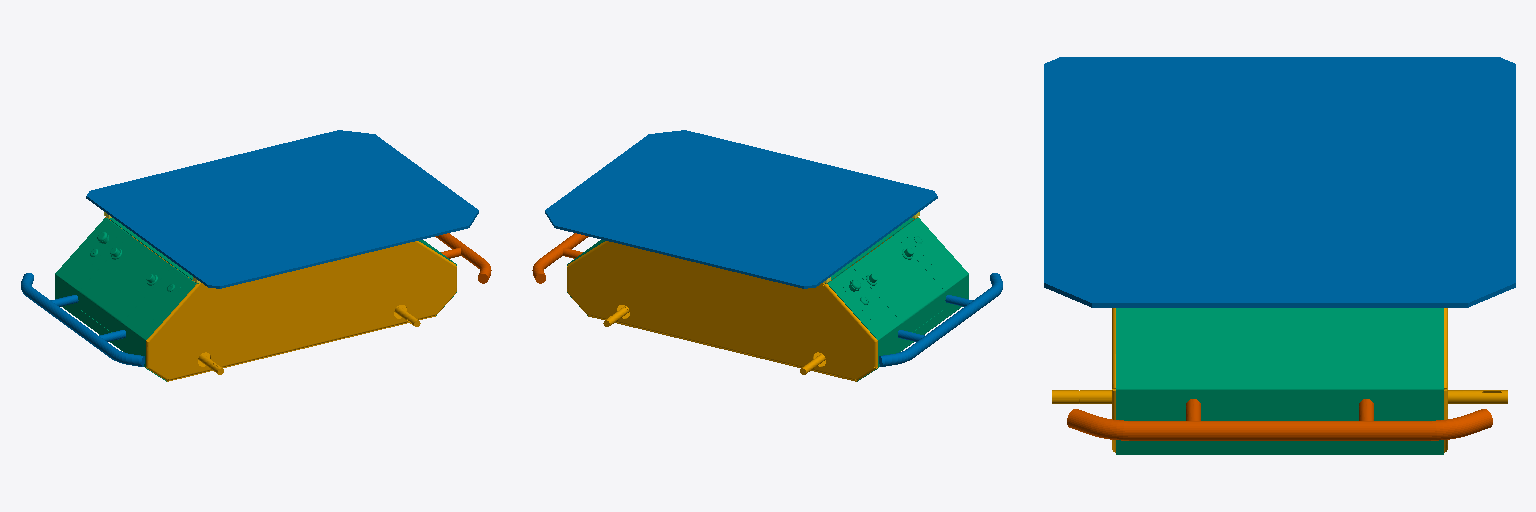
robot.urdf — husky:
<?xml version="1.0" encoding="utf-8"?>
<!-- =================================================================================== -->
<!-- |    This document was autogenerated by xacro from husky_for_copying.urdf.xacro   | -->
<!-- |    EDITING THIS FILE BY HAND IS NOT RECOMMENDED                                 | -->
<!-- =================================================================================== -->
<!--
Software License Agreement (BSD)
\file      husky.urdf.xacro
\authors   [author] <[email redacted]>, [author] <[email redacted]>
\copyright Copyright (c) 2015, Clearpath Robotics, Inc., All rights reserved.
Redistribution and use in source and binary forms, with or without modification, are permitted provided that
the following conditions are met:
 * Redistributions of source code must retain the above copyright notice, this list of conditions and the
   following disclaimer.
 * Redistributions in binary form must reproduce the above copyright notice, this list of conditions and the
   following disclaimer in the documentation and/or other materials provided with the distribution.
 * Neither the name of Clearpath Robotics nor the names of its contributors may be used to endorse or promote
   products derived from this software without specific prior written permission.
THIS SOFTWARE IS PROVIDED BY THE COPYRIGHT [author] "AS IS" AND ANY EXPRESS OR IMPLIED WAR-
RANTIES, INCLUDING, BUT NOT LIMITED TO, THE IMPLIED WARRANTIES OF MERCHANTABILITY AND FITNESS FOR A PARTICULAR
PURPOSE ARE DISCLAIMED. IN NO EVENT SHALL THE COPYRIGHT [author] LIABLE FOR ANY DIRECT, IN-
DIRECT, INCIDENTAL, SPECIAL, EXEMPLARY, OR CONSEQUENTIAL DAMAGES (INCLUDING, BUT NOT LIMITED TO, PROCUREMENT
OF SUBSTITUTE GOODS OR SERVICES; LOSS OF USE, DATA, OR PROFITS; OR BUSINESS INTERRUPTION) HOWEVER CAUSED AND
ON ANY THEORY OF LIABILITY, WHETHER IN CONTRACT, STRICT LIABILITY, OR TORT (INCLUDING NEGLIGENCE OR OTHERWISE)
ARISING IN ANY WAY OUT OF THE USE OF THIS SOFTWARE, EVEN IF ADVISED OF THE POSSIBILITY OF SUCH DAMAGE.
-->
<robot name="husky">
  <material name="dark_grey">
    <color rgba="0.2 0.2 0.2 1.0"/>
  </material>
  <material name="medium_grey">
    <color rgba="0.6 0.6 0.6 1.0"/>
  </material>
  <material name="light_grey">
    <color rgba="0.8 0.8 0.8 1.0"/>
  </material>
  <material name="yellow">
    <color rgba="0.8 0.8 0.0 1.0"/>
  </material>
  <material name="black">
    <color rgba="0.15 0.15 0.15 1.0"/>
  </material>
  <material name="white">
    <color rgba="1.0 1.0 1.0 1.0"/>
  </material>
  <material name="red">
    <color rgba="1.0 0.0 0.0 1.0"/>
  </material>
  <!-- Base link is the center of the robot's bottom plate -->
  <link name="base_link">
    <visual>
      <origin rpy="0 0 0" xyz="0 0 0"/>
      <geometry>
        <mesh filename="package://husky_description/meshes/base_link_dae.obj"/>
      </geometry>
    </visual>
    <collision>
      <origin rpy="0 0 0" xyz="0.0 0 0.061875"/>
      <geometry>
        <box size="0.9874 0.5709 0.12375"/>
      </geometry>
    </collision>
    <collision>
      <origin rpy="0 0 0" xyz="0 0 0.175625"/>
      <geometry>
        <box size="0.78992 0.5709 0.10375"/>
      </geometry>
    </collision>
  </link>
  <!-- Base footprint is on the ground under the robot -->
  <link name="base_footprint"/>
  <joint name="base_footprint_joint" type="fixed">
    <origin rpy="0 0 0" xyz="0 0 -0.13228"/>
    <parent link="base_link"/>
    <child link="base_footprint"/>
  </joint>
  <!-- Inertial link stores the robot's inertial information -->
  <link name="inertial_link">
    <inertial>
      <mass value="46.034"/>
      <origin xyz="-0.00065 -0.085 0.062"/>
      <inertia ixx="0.6022" ixy="-0.02364" ixz="-0.1197" iyy="1.7386" iyz="-0.001544" izz="2.0296"/>
    </inertial>
  </link>
  <joint name="inertial_joint" type="fixed">
    <origin rpy="0 0 0" xyz="0 0 0"/>
    <parent link="base_link"/>
    <child link="inertial_link"/>
  </joint>
  <!-- IMU Link is the standard mounting position for the UM6 IMU.-->
  <!-- Can be modified with environment variables in /etc/ros/setup.bash -->
  <link name="imu_link"/>
  <joint name="imu_joint" type="fixed">
    <origin rpy="0 -1.5708 3.1416" xyz="0.19 0 0.149"/>
    <parent link="base_link"/>
    <child link="imu_link"/>
  </joint>
  <gazebo reference="imu_link">
  </gazebo>
  <link name="rear_bumper_link">
    <visual>
      <geometry>
        <mesh filename="package://husky_description/meshes/bumper_dae.obj"/>
      </geometry>
    </visual>
  </link>
  <!-- Attach rear bumper -->
  <joint name="rear_bumper" type="fixed">
    <origin rpy="0 0 3.14159" xyz="-0.48 0 0.091"/>
    <parent link="base_link"/>
    <child link="rear_bumper_link"/>
  </joint>
  <link name="front_bumper_link">
    <visual>
      <geometry>
        <mesh filename="package://husky_description/meshes/bumper_dae.obj"/>
      </geometry>
    </visual>
  </link>
  <!-- Attach front bumper -->
  <joint name="front_bumper" type="fixed">
    <origin rpy="0 0 0" xyz="0.48 0 0.091"/>
    <parent link="base_link"/>
    <child link="front_bumper_link"/>
  </joint>
  <link name="front_left_wheel_link">
    <inertial>
      <mass value="2.637"/>
      <origin xyz="0 0 0"/>
      <inertia ixx="0.02467" ixy="0" ixz="0" iyy="0.04411" iyz="0" izz="0.02467"/>
    </inertial>
    <visual>
      <origin rpy="0 0 0" xyz="0 0 0"/>
      <geometry>
        <mesh filename="package://husky_description/meshes/wheel_dae.obj"/>
      </geometry>
    </visual>
    <collision>
      <origin rpy="1.570795 0 0" xyz="0 0 0"/>
      <geometry>
        <cylinder length="0.1143" radius="0.1651"/>
      </geometry>
    </collision>
  </link>
  <gazebo reference="front_left_wheel_link">
    <mu1 value="1.0"/>
    <mu2 value="0.5"/>
    <kp value="10000000.0"/>
    <kd value="1.0"/>
    <fdir1 value="1 0 0"/>
  </gazebo>
  <joint name="front_left_wheel" type="continuous">
    <parent link="base_link"/>
    <child link="front_left_wheel_link"/>
    <origin rpy="0 0 0" xyz="0.256 0.2854 0.03282"/>
    <axis rpy="0 0 0" xyz="0 1 0"/>
  </joint>
  <transmission name="front_left_wheel_trans" type="SimpleTransmission">
    <type>transmission_interface/SimpleTransmission</type>
    <actuator name="front_left_wheel_motor">
      <mechanicalReduction>1</mechanicalReduction>
    </actuator>
    <joint name="front_left_wheel">
      <hardwareInterface>hardware_interface/VelocityJointInterface</hardwareInterface>
    </joint>
  </transmission>
  <link name="front_right_wheel_link">
    <inertial>
      <mass value="2.637"/>
      <origin xyz="0 0 0"/>
      <inertia ixx="0.02467" ixy="0" ixz="0" iyy="0.04411" iyz="0" izz="0.02467"/>
    </inertial>
    <visual>
      <origin rpy="0 0 0" xyz="0 0 0"/>
      <geometry>
        <mesh filename="package://husky_description/meshes/wheel_dae.obj"/>
      </geometry>
    </visual>
    <collision>
      <origin rpy="1.570795 0 0" xyz="0 0 0"/>
      <geometry>
        <cylinder length="0.1143" radius="0.1651"/>
      </geometry>
    </collision>
  </link>
  <gazebo reference="front_right_wheel_link">
    <mu1 value="1.0"/>
    <mu2 value="0.5"/>
    <kp value="10000000.0"/>
    <kd value="1.0"/>
    <fdir1 value="1 0 0"/>
  </gazebo>
  <joint name="front_right_wheel" type="continuous">
    <parent link="base_link"/>
    <child link="front_right_wheel_link"/>
    <origin rpy="0 0 0" xyz="0.256 -0.2854 0.03282"/>
    <axis rpy="0 0 0" xyz="0 1 0"/>
  </joint>
  <transmission name="front_right_wheel_trans" type="SimpleTransmission">
    <type>transmission_interface/SimpleTransmission</type>
    <actuator name="front_right_wheel_motor">
      <mechanicalReduction>1</mechanicalReduction>
    </actuator>
    <joint name="front_right_wheel">
      <hardwareInterface>hardware_interface/VelocityJointInterface</hardwareInterface>
    </joint>
  </transmission>
  <link name="rear_left_wheel_link">
    <inertial>
      <mass value="2.637"/>
      <origin xyz="0 0 0"/>
      <inertia ixx="0.02467" ixy="0" ixz="0" iyy="0.04411" iyz="0" izz="0.02467"/>
    </inertial>
    <visual>
      <origin rpy="0 0 0" xyz="0 0 0"/>
      <geometry>
        <mesh filename="package://husky_description/meshes/wheel_dae.obj"/>
      </geometry>
    </visual>
    <collision>
      <origin rpy="1.570795 0 0" xyz="0 0 0"/>
      <geometry>
        <cylinder length="0.1143" radius="0.1651"/>
      </geometry>
    </collision>
  </link>
  <gazebo reference="rear_left_wheel_link">
    <mu1 value="1.0"/>
    <mu2 value="0.5"/>
    <kp value="10000000.0"/>
    <kd value="1.0"/>
    <fdir1 value="1 0 0"/>
  </gazebo>
  <joint name="rear_left_wheel" type="continuous">
    <parent link="base_link"/>
    <child link="rear_left_wheel_link"/>
    <origin rpy="0 0 0" xyz="-0.256 0.2854 0.03282"/>
    <axis rpy="0 0 0" xyz="0 1 0"/>
  </joint>
  <transmission name="rear_left_wheel_trans" type="SimpleTransmission">
    <type>transmission_interface/SimpleTransmission</type>
    <actuator name="rear_left_wheel_motor">
      <mechanicalReduction>1</mechanicalReduction>
    </actuator>
    <joint name="rear_left_wheel">
      <hardwareInterface>hardware_interface/VelocityJointInterface</hardwareInterface>
    </joint>
  </transmission>
  <link name="rear_right_wheel_link">
    <inertial>
      <mass value="2.637"/>
      <origin xyz="0 0 0"/>
      <inertia ixx="0.02467" ixy="0" ixz="0" iyy="0.04411" iyz="0" izz="0.02467"/>
    </inertial>
    <visual>
      <origin rpy="0 0 0" xyz="0 0 0"/>
      <geometry>
        <mesh filename="package://husky_description/meshes/wheel_dae.obj"/>
      </geometry>
    </visual>
    <collision>
      <origin rpy="1.570795 0 0" xyz="0 0 0"/>
      <geometry>
        <cylinder length="0.1143" radius="0.1651"/>
      </geometry>
    </collision>
  </link>
  <gazebo reference="rear_right_wheel_link">
    <mu1 value="1.0"/>
    <mu2 value="0.5"/>
    <kp value="10000000.0"/>
    <kd value="1.0"/>
    <fdir1 value="1 0 0"/>
  </gazebo>
  <joint name="rear_right_wheel" type="continuous">
    <parent link="base_link"/>
    <child link="rear_right_wheel_link"/>
    <origin rpy="0 0 0" xyz="-0.256 -0.2854 0.03282"/>
    <axis rpy="0 0 0" xyz="0 1 0"/>
  </joint>
  <transmission name="rear_right_wheel_trans" type="SimpleTransmission">
    <type>transmission_interface/SimpleTransmission</type>
    <actuator name="rear_right_wheel_motor">
      <mechanicalReduction>1</mechanicalReduction>
    </actuator>
    <joint name="rear_right_wheel">
      <hardwareInterface>hardware_interface/VelocityJointInterface</hardwareInterface>
    </joint>
  </transmission>
  <!-- Spawn Husky chassis -->
  <link name="top_chassis_link">
    <visual>
      <origin rpy="0 0 0" xyz="0 0 0"/>
      <geometry>
        <mesh filename="package://husky_description/meshes/top_chassis_dae.obj"/>
      </geometry>
    </visual>
  </link>
  <!-- Attach chassis to the robot -->
  <joint name="top_chassis_joint" type="fixed">
    <parent link="base_link"/>
    <child link="top_chassis_link"/>
  </joint>
  <!-- Spawn user rails -->
  <link name="user_rail_link">
    <visual>
      <geometry>
        <mesh filename="package://husky_description/meshes/user_rail_dae.obj"/>
      </geometry>
    </visual>
  </link>
  <!-- Attach user rails to base link -->
  <joint name="user_rail" type="fixed">
    <origin rpy="0 0 0" xyz="0.272 0 0.245"/>
    <parent link="base_link"/>
    <child link="user_rail_link"/>
  </joint>
  <link name="top_plate_link">
    <visual>
      <origin rpy="0 0 0" xyz="0 0 0"/>
      <geometry>
        <mesh filename="package://husky_description/meshes/top_plate_dae.obj"/>
      </geometry>
    </visual>
    <collision>
      <origin rpy="0 0 0" xyz="0 0 0"/>
      <geometry>
        <mesh filename="package://husky_description/meshes/top_plate_stl.obj"/>
      </geometry>
    </collision>
  </link>
  <!-- Attach top plate -->
  <joint name="top_plate_joint" type="fixed">
    <parent link="base_link"/>
    <child link="top_plate_link"/>
    <origin rpy="0 0 0" xyz="0.0812 0 0.245"/>
  </joint>
  <!-- Top plate front link -->
  <joint name="top_plate_front_joint" type="fixed">
    <parent link="top_plate_link"/>
    <child link="top_plate_front_link"/>
    <origin rpy="0 0 0" xyz="0.36367 0 0.00639"/>
  </joint>
  <!-- Top plate rear link-->
  <joint name="top_plate_rear_joint" type="fixed">
    <parent link="top_plate_link"/>
    <child link="top_plate_rear_link"/>
    <origin rpy="0 0 0" xyz="-0.36633 0 0.00639"/>
  </joint>
  <link name="top_plate_front_link"/>
  <link name="top_plate_rear_link"/>
  <gazebo>
    <plugin filename="libgazebo_ros_control.so" name="gazebo_ros_control">
      <robotNamespace>/</robotNamespace>
      <legacyModeNS>true</legacyModeNS>
    </plugin>
  </gazebo>
  <gazebo>
    <plugin filename="libhector_gazebo_ros_imu.so" name="imu_controller">
      <robotNamespace>/</robotNamespace>
      <updateRate>50.0</updateRate>
      <bodyName>base_link</bodyName>
      <topicName>imu/data</topicName>
      <accelDrift>0.005 0.005 0.005</accelDrift>
      <accelGaussianNoise>0.005 0.005 0.005</accelGaussianNoise>
      <rateDrift>0.005 0.005 0.005 </rateDrift>
      <rateGaussianNoise>0.005 0.005 0.005 </rateGaussianNoise>
      <headingDrift>0.005</headingDrift>
      <headingGaussianNoise>0.005</headingGaussianNoise>
    </plugin>
  </gazebo>
  <gazebo>
    <plugin filename="libhector_gazebo_ros_gps.so" name="gps_controller">
      <robotNamespace>/</robotNamespace>
      <updateRate>40</updateRate>
      <bodyName>base_link</bodyName>
      <frameId>base_link</frameId>
      <topicName>navsat/fix</topicName>
      <velocityTopicName>navsat/vel</velocityTopicName>
      <referenceLatitude>49.9</referenceLatitude>
      <referenceLongitude>8.9</referenceLongitude>
      <referenceHeading>0</referenceHeading>
      <referenceAltitude>0</referenceAltitude>
      <drift>0.0001 0.0001 0.0001</drift>
    </plugin>
  </gazebo>
  <!-- This file is a placeholder which is included by default from
       husky.urdf.xacro. If a robot is being customized and requires
       additional URDF, set the HUSKY_URDF_EXTRAS environment variable
       to the full path of the file you would like included. -->
  <!-- This file is a placeholder which is included by default from
       husky.urdf.xacro. If a robot is being customized and requires
       additional URDF, set the HUSKY_URDF_EXTRAS environment variable
       to the full path of the file you would like included. -->
</robot>

--- Render facts (derived) ---
3 views of the same robot in one strip: view 1: azimuth 30°, elevation 25°; view 2: azimuth 150°, elevation 25°; view 3: azimuth 270°, elevation 25° (orthographic).
Robot: husky — 15 links, 14 joints (4 continuous, 10 fixed); root link base_link; default pose: all joints at 0.
Links seen in each view (by area): view 1: top_plate_link, base_link, top_chassis_link, rear_bumper_link, front_bumper_link; view 2: top_plate_link, base_link, top_chassis_link, rear_bumper_link, front_bumper_link; view 3: top_plate_link, top_chassis_link, front_bumper_link, base_link.
Boxes of the visible links, bbox=[...] form: top_plate_link: bbox=[86, 130, 478, 288]; base_link: bbox=[105, 217, 456, 381]; top_chassis_link: bbox=[55, 218, 456, 381]; rear_bumper_link: bbox=[21, 273, 144, 366]; front_bumper_link: bbox=[435, 233, 491, 283]; top_plate_link: bbox=[545, 130, 937, 288]; base_link: bbox=[567, 217, 918, 381]; top_chassis_link: bbox=[567, 218, 968, 381]; rear_bumper_link: bbox=[879, 273, 1002, 366]; front_bumper_link: bbox=[532, 233, 588, 283]; top_plate_link: bbox=[1044, 57, 1515, 307]; top_chassis_link: bbox=[1116, 308, 1443, 454]; front_bumper_link: bbox=[1067, 399, 1492, 440]; base_link: bbox=[1052, 308, 1507, 452].
Size in the robot's own frame: 0.9854 by 0.59 by 0.2545 metres.
6 mesh visuals loaded from 6 distinct referenced files (5 OBJ); not drawn: 4 (reference not matched to a file when rendering).